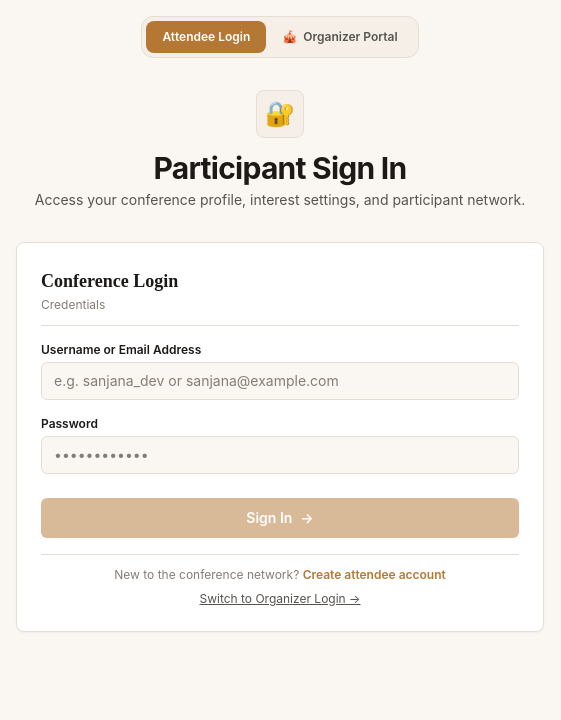
Test: Login Component › displays generic error on 401 invalid credentials
The width and height of the screenshot is (561, 720).
Type "user_unknown" into the field labelled "Username or Email Address".
click(280, 381); type("user_unknown")  # box left=41, top=362, right=519, bottom=400
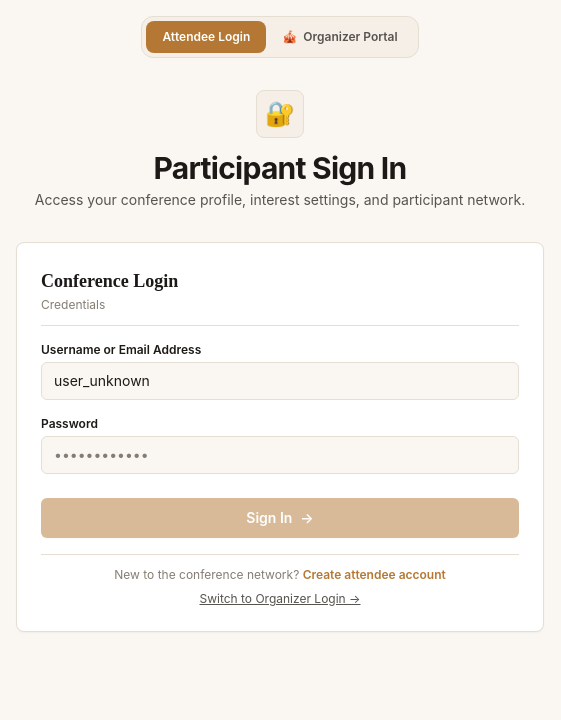
Type "wrongpassword" into the password field labelled "Password".
click(280, 455); type("wrongpassword")  # box left=41, top=436, right=519, bottom=474
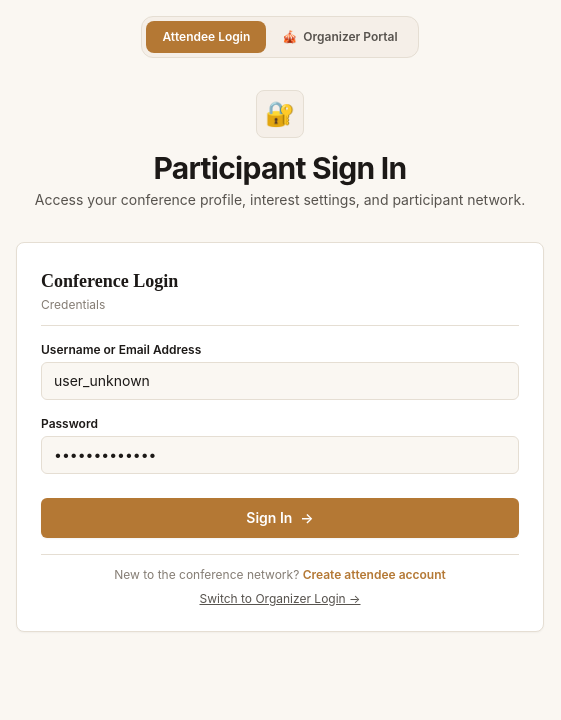
expect the button "Sign In →" is enabled: met
Click the button "Sign In →".
click(280, 518)  # box left=41, top=498, right=519, bottom=538
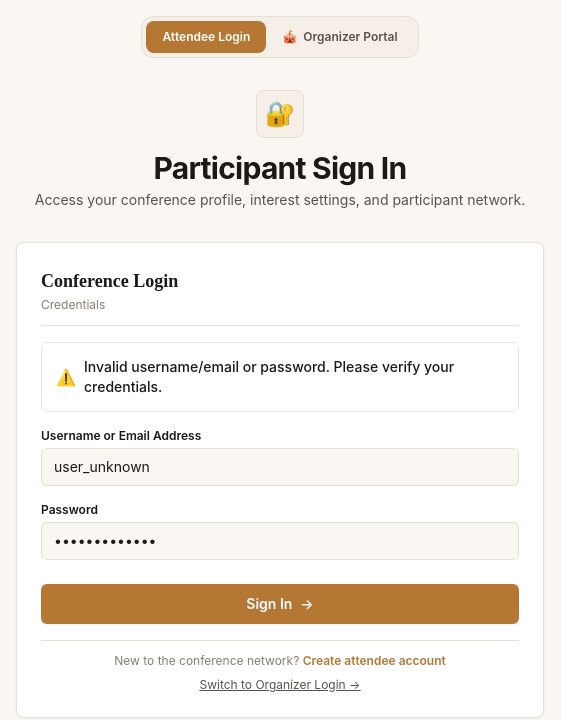
expect the text "Invalid username/email or password. Please verify your credentials." is shown: met, box left=84, top=357, right=504, bottom=397
